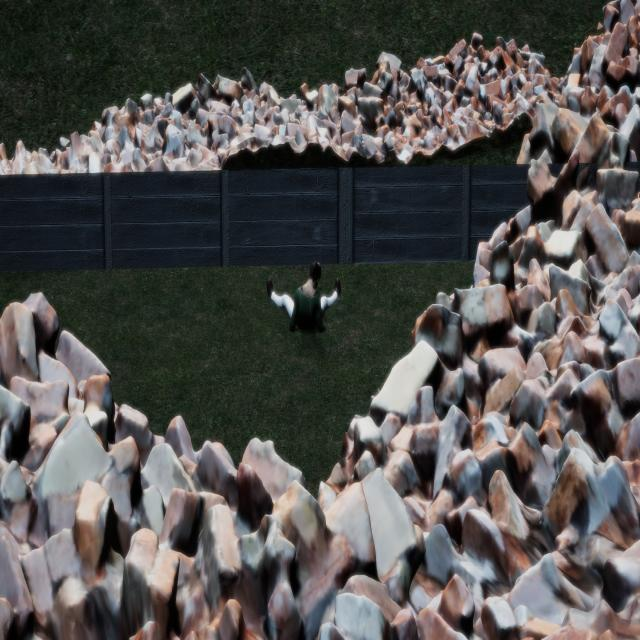Human: (258, 254, 350, 347)
